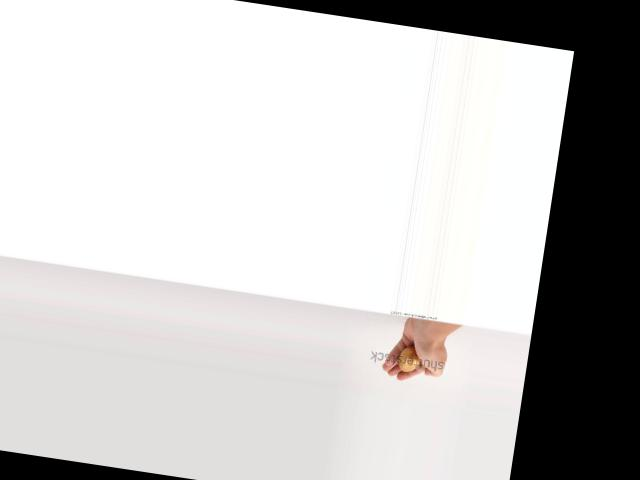egg: (397, 344, 421, 373)
